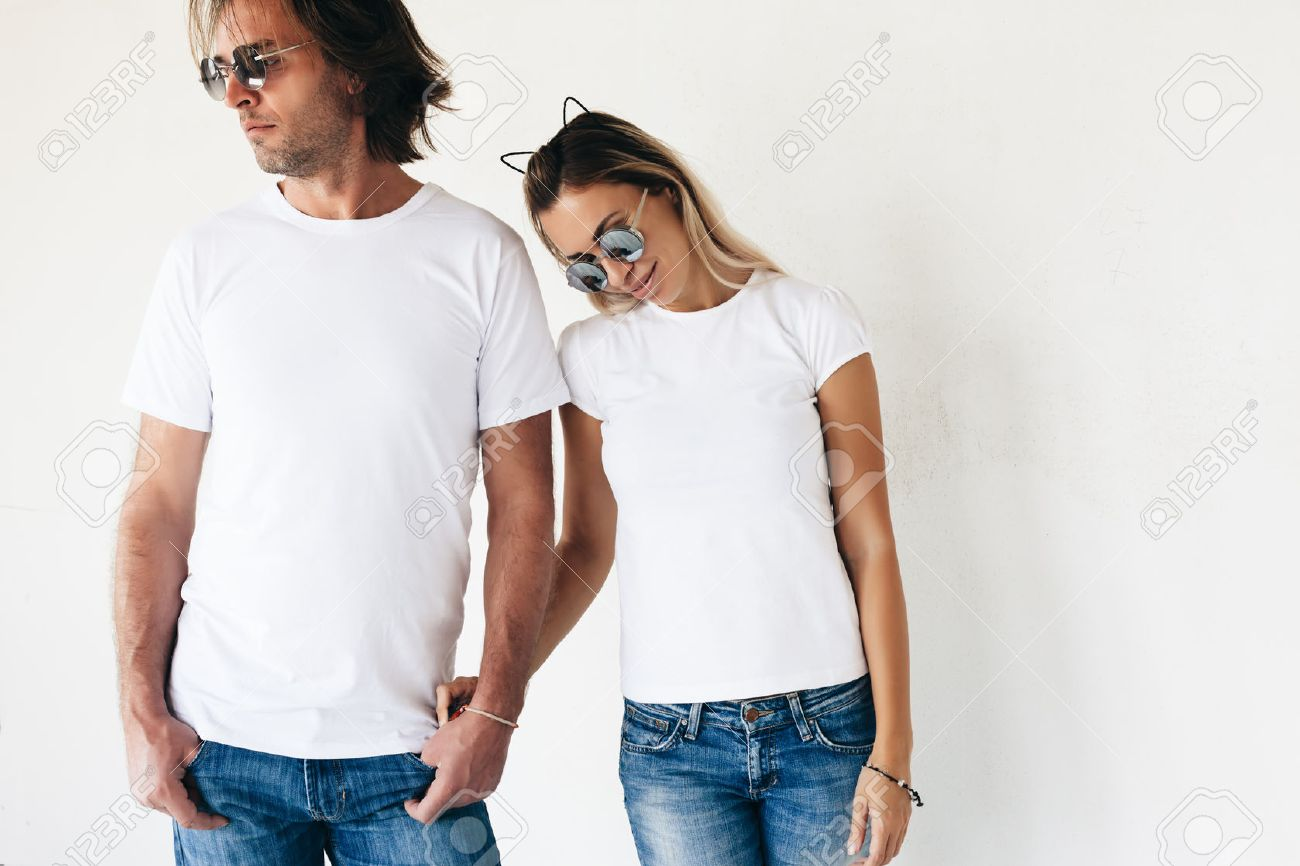jeans: (608, 688, 914, 862), (152, 719, 515, 863)
sunglasses: (543, 223, 668, 296), (184, 48, 298, 92)
